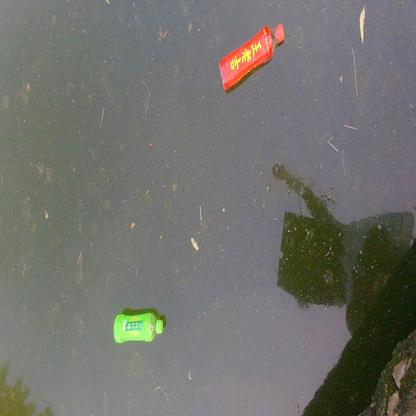plastic bottle: (218, 23, 285, 93), (113, 313, 165, 344)
